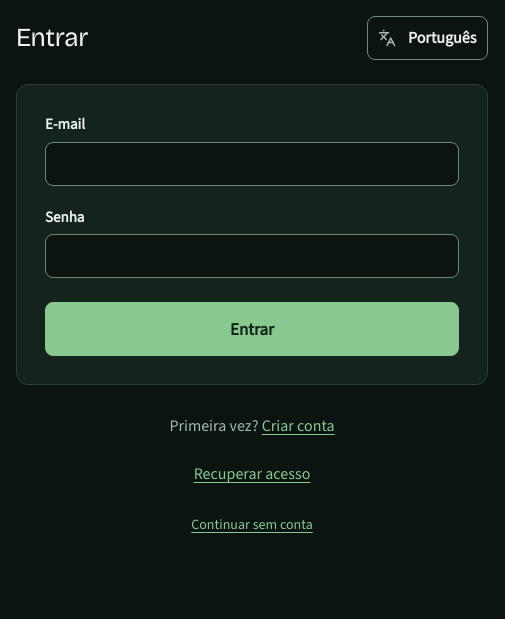
Test: falha de login aparece como erro do formulário, com foco, e não marca o e-mail como inválido (D-16)
Step 1. Type "ana@example.com" into the field labelled "E-mail" → (252, 164), box [45,142,459,186]
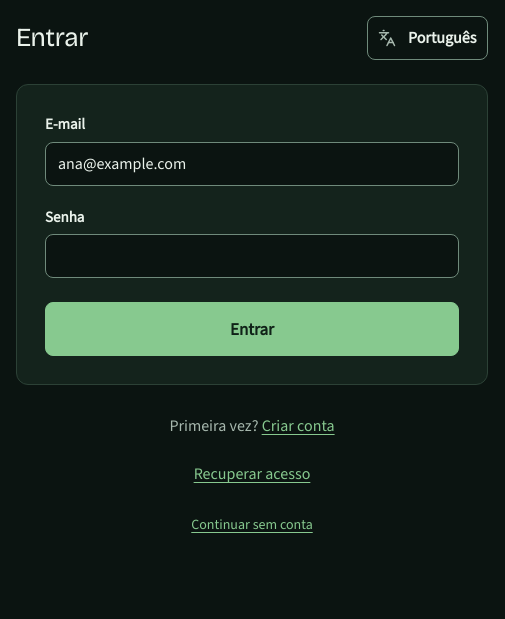
Step 2. Type "x" into the password field labelled "Senha" → (252, 256), box [45,234,459,278]
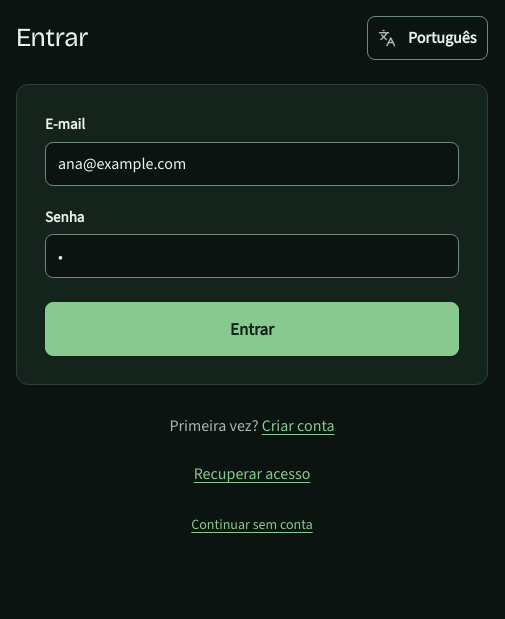
Step 3. Click the button "Entrar" → (252, 329), box [45,302,459,356]
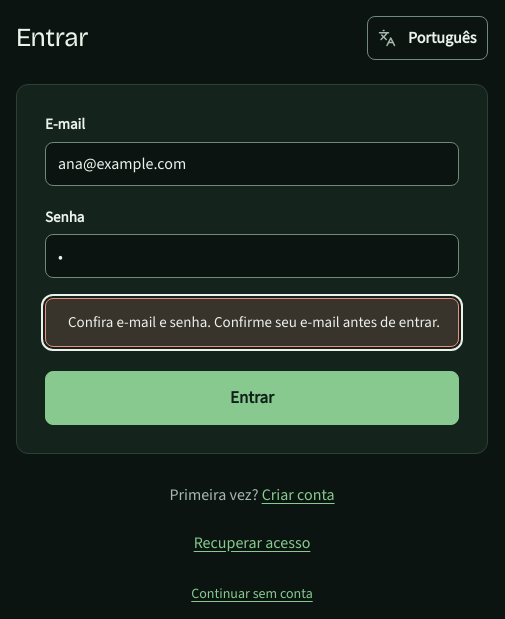
Expected: the message with test id "form-error" shows "Confira e-mail e senha", [68,312,440,332]
